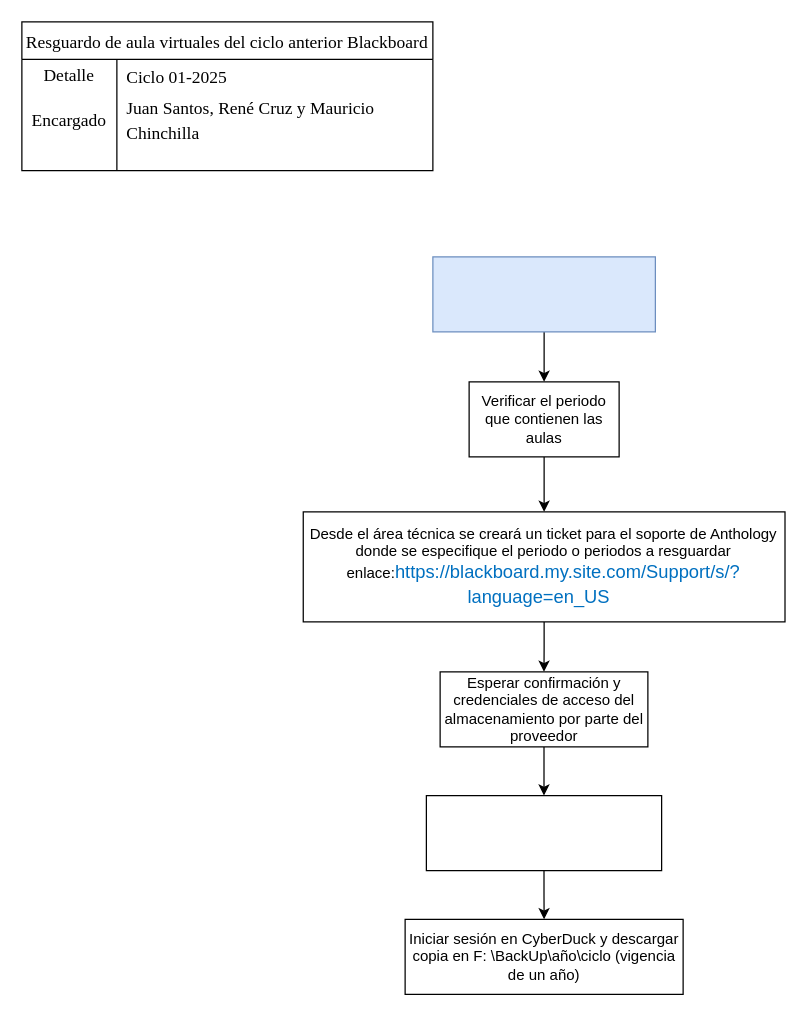
This 808x1016 diagram has some shape labels left out. Here are the shapes that lost their labels. From the top down, the centre of each, then its label:
At (x=543, y=294): "Resguardo de aulas virtuales del ciclo anterior Blackboard".
At (x=543, y=832): "Usar la herramienta CyberDuck y contar con un disco externo para almacenamiento".
